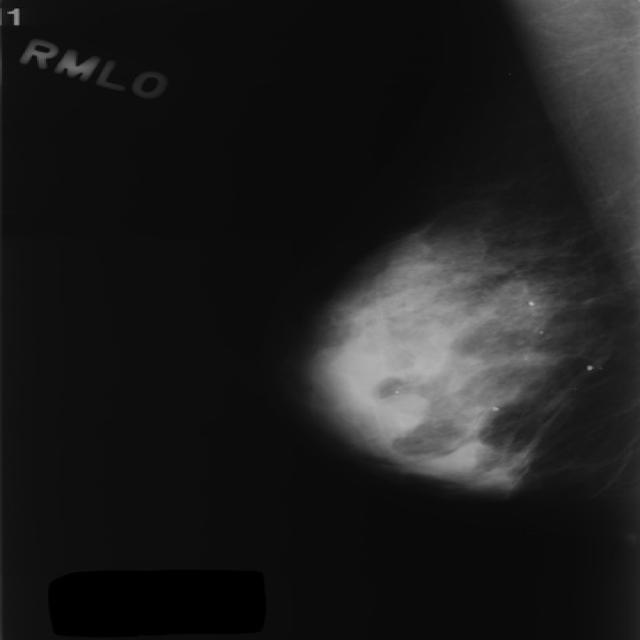tumour: (369, 392, 427, 435)
